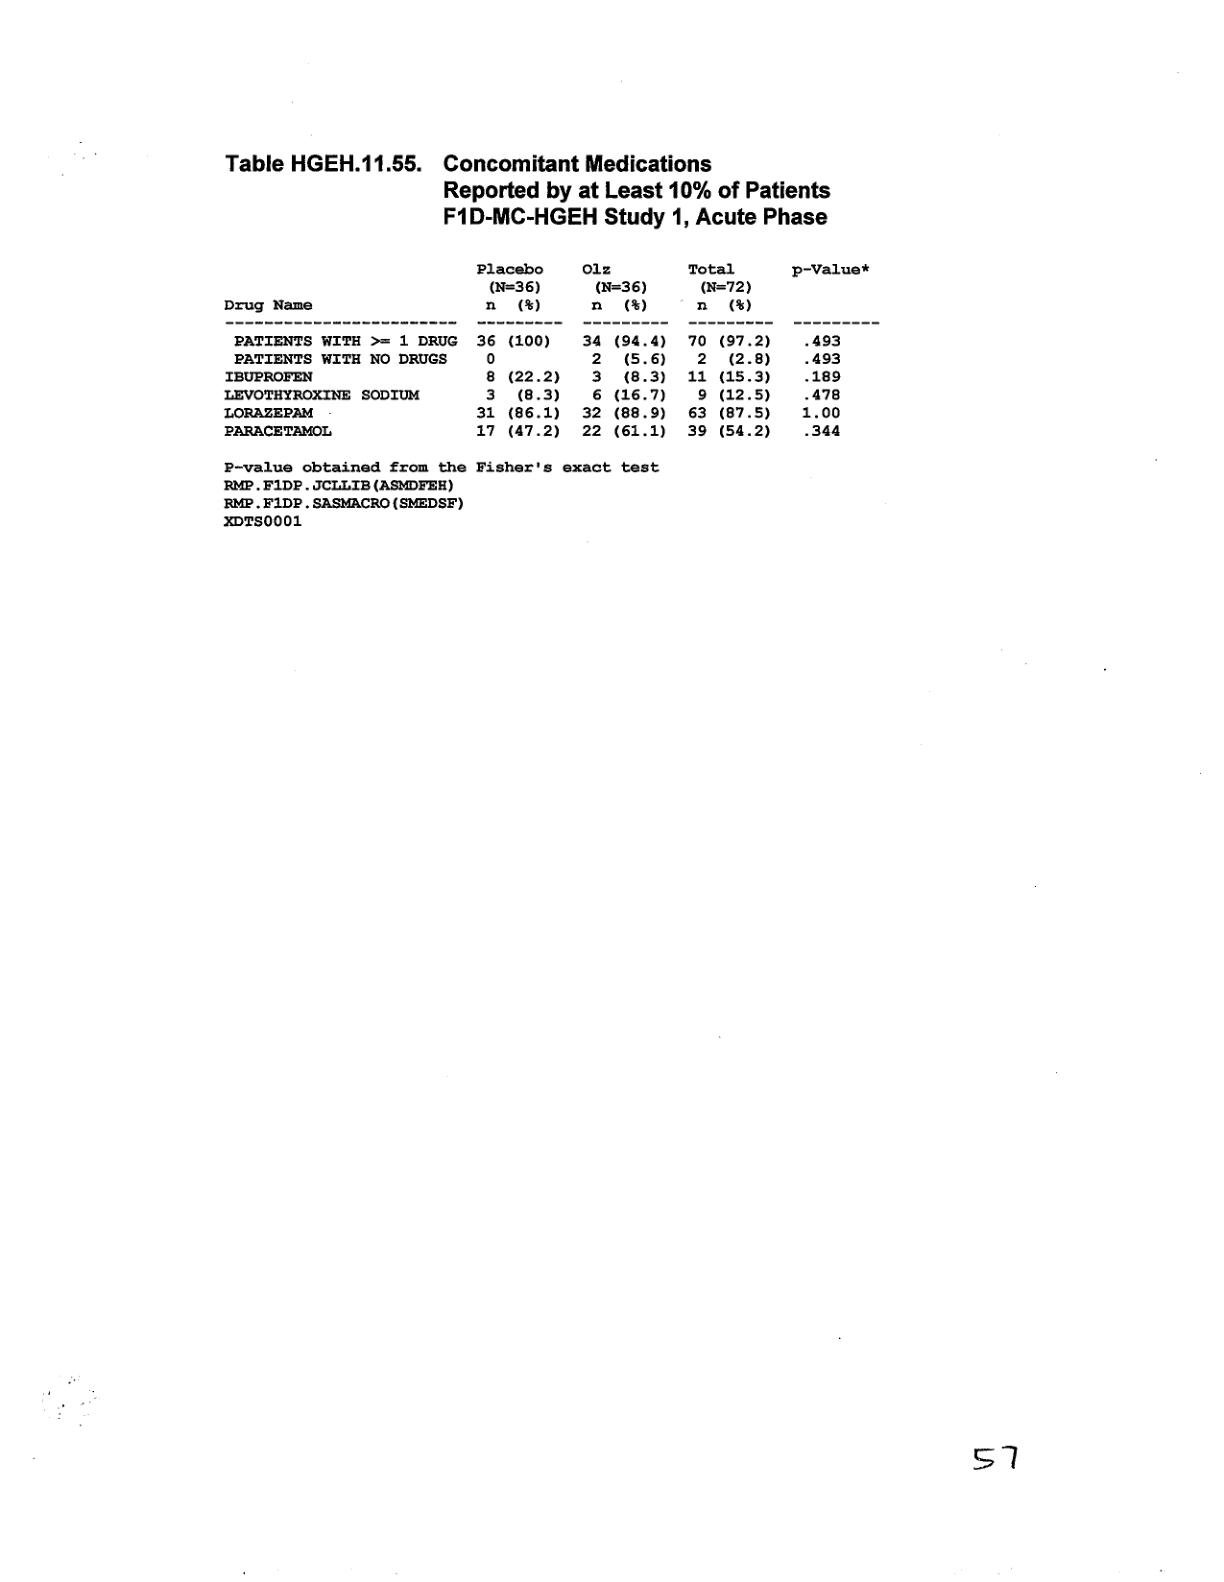nolines: (221, 261, 882, 440)
